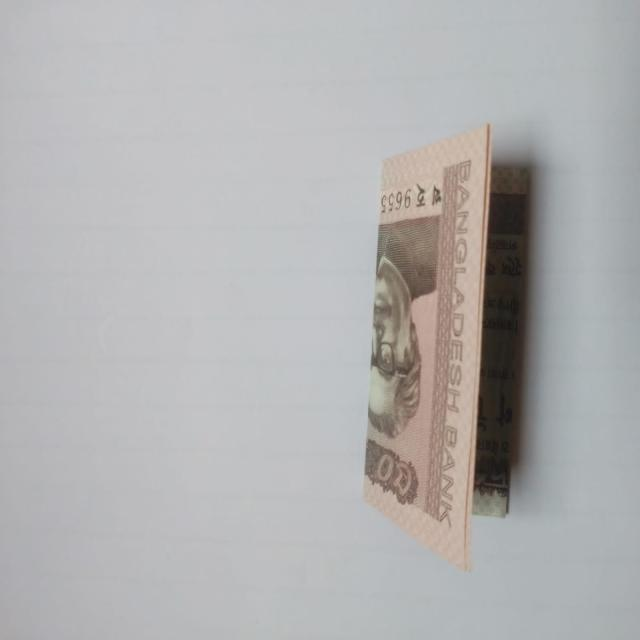Taka: (363, 122, 531, 562)
